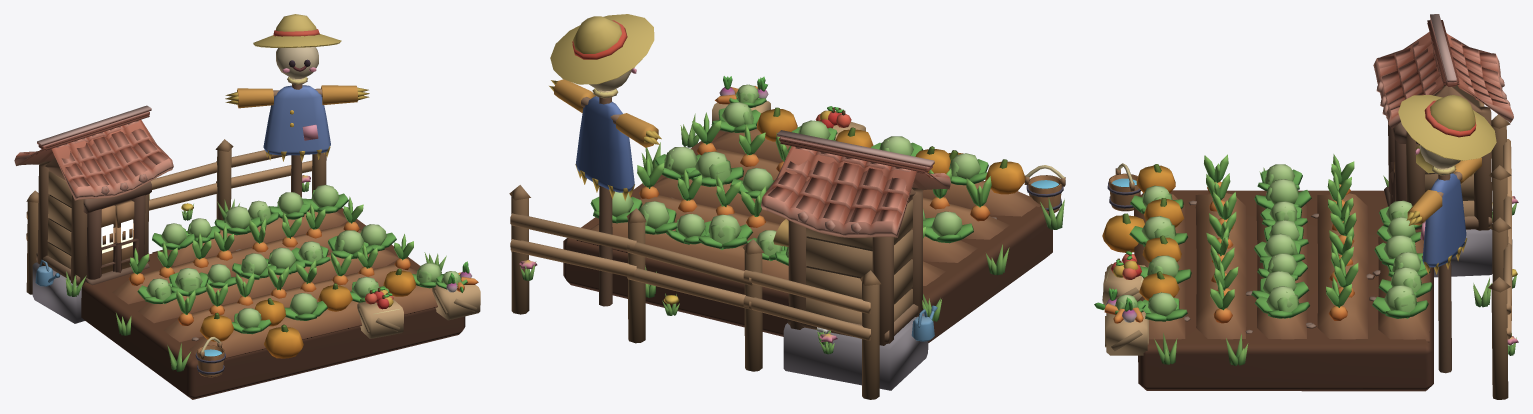
The model's file is farm-2.glb.
3 views of the same model, side by side, from view 1: azimuth 30°, elevation 25°; view 2: azimuth 150°, elevation 25°; view 3: azimuth 270°, elevation 25° (orthographic). The views are drawn at different scales.
Parts seen in each view (by area): view 1: farm-2, window_glow; view 2: farm-2; view 3: farm-2.
Boxes of the visible parts, x1=… form: farm-2: x1=14, y1=14, x2=480, y2=399; window_glow: x1=101, y1=219, x2=133, y2=253; farm-2: x1=509, y1=14, x2=1065, y2=399; farm-2: x1=1094, y1=14, x2=1518, y2=399.
Size of the model in its own units: 3.17 by 2.19 by 3.07.
